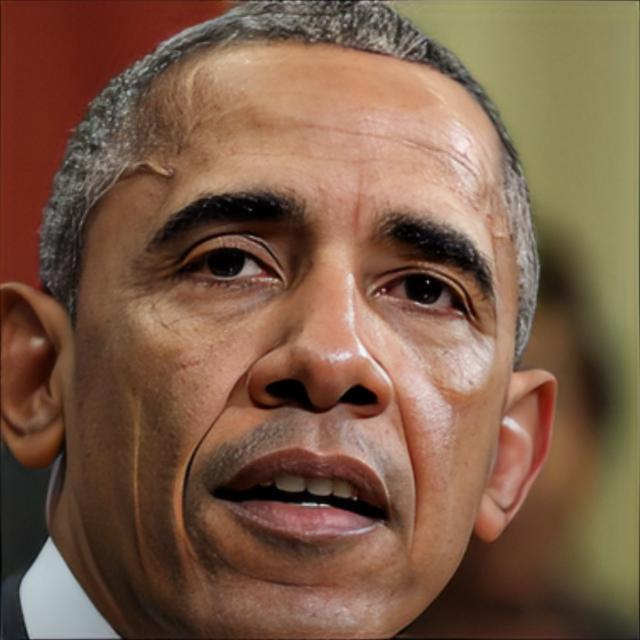neutral: (72, 46, 516, 633)
